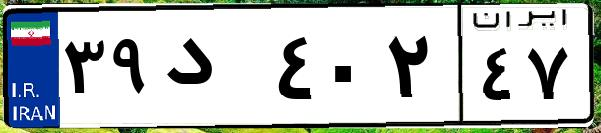0: (330, 28, 385, 110)
2: (385, 28, 445, 110)
3: (57, 26, 110, 100)
4: (270, 28, 330, 110), (475, 38, 525, 113)
7: (525, 38, 570, 115)
9: (110, 28, 158, 98)
د: (158, 20, 270, 120)
